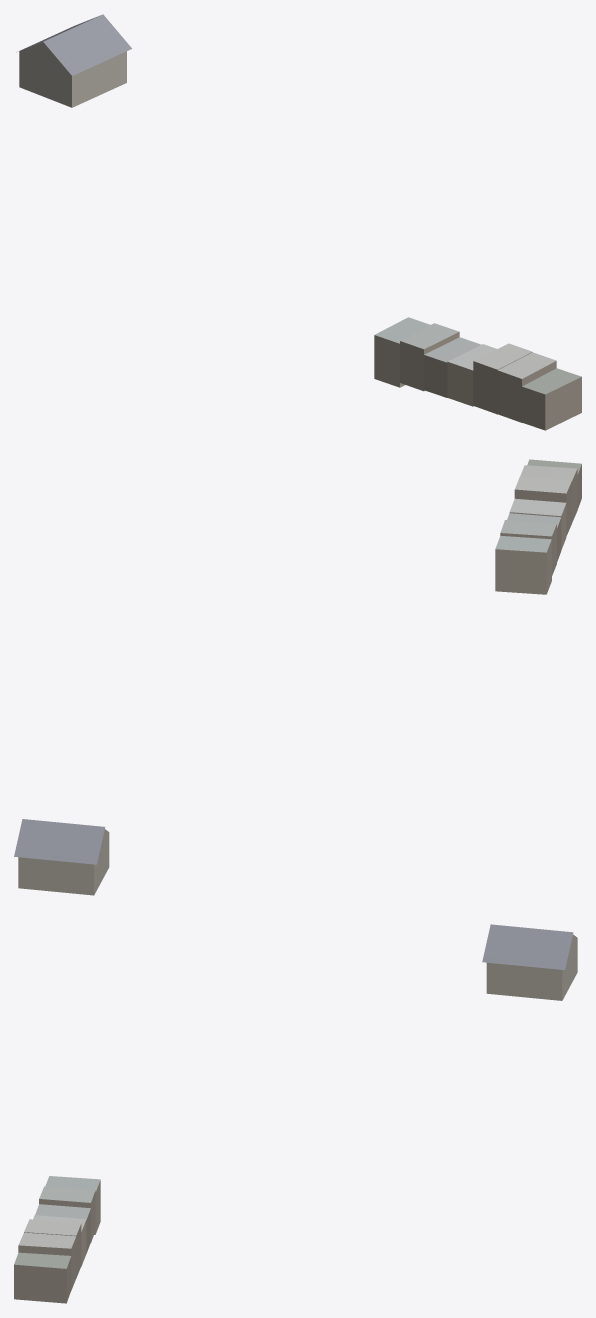
The picture shows the model from 3 angles, top to bottom: view 1: azimuth 30°, elevation 25°; view 2: azimuth 150°, elevation 25°; view 3: azimuth 330°, elevation 25°; orthographic projection. The views are drawn at different scales.
Visible parts, largest first — view 1: tuile; view 2: tuile; view 3: tuile.
Boxes of the visible parts, x1=… form: tuile: x1=16, y1=14, x2=581, y2=430; tuile: x1=14, y1=459, x2=581, y2=895; tuile: x1=14, y1=924, x2=577, y2=1303.
Bounding box in the file's own units: 15.81 × 7.89 × 98.64.
